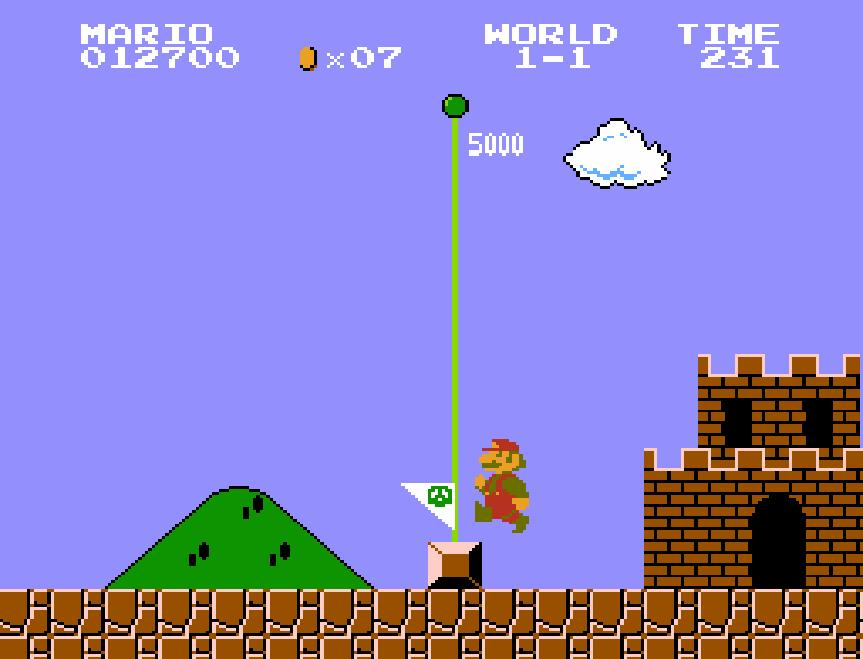big_mario: (474, 437, 532, 535)
